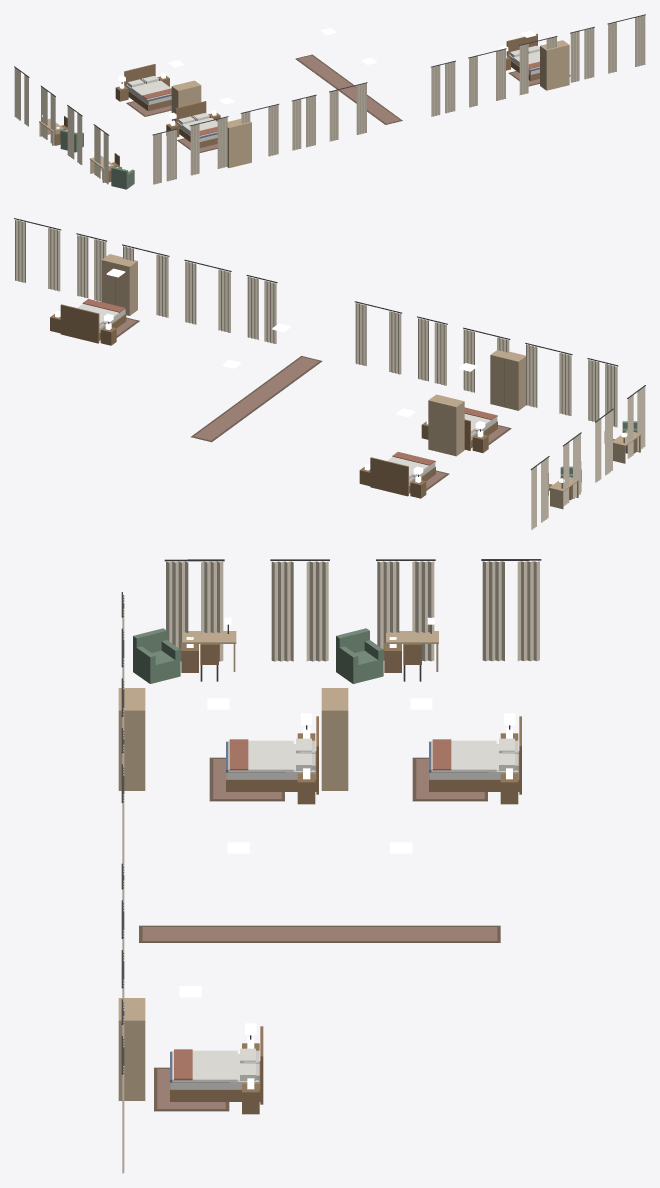
Rendered from fine-s1.glb.
3 views of the same model, one above another, from view 1: azimuth 30°, elevation 25°; view 2: azimuth 150°, elevation 25°; view 3: azimuth 270°, elevation 25° (orthographic). The views are drawn at different scales.
Parts seen in each view (by area): view 1: soft-s1, dresser.000, dresser.002, bed-frame.001, bed-frame.002, dresser.001, bed-frame.000, lounge-chair.001, lounge-chair.000; view 2: soft-s1, dresser.001, dresser.002, dresser.000, bed-frame.000, bed-frame.001, writing-desk.001, writing-desk.000; view 3: soft-s1, dresser.001, dresser.000, dresser.002, lounge-chair.000, lounge-chair.001, bed-frame.000, bed-frame.001, bed-frame.002.
Boxes of the visible parts, bbox=[...] form: soft-s1: bbox=[14, 14, 645, 184]; dresser.000: bbox=[540, 40, 569, 90]; dresser.002: bbox=[227, 118, 251, 167]; bed-frame.001: bbox=[124, 64, 171, 111]; bed-frame.002: bbox=[175, 101, 217, 147]; dresser.001: bbox=[171, 80, 201, 120]; bed-frame.000: bbox=[506, 33, 539, 80]; lounge-chair.001: bbox=[111, 166, 134, 189]; lounge-chair.000: bbox=[60, 129, 83, 152]; soft-s1: bbox=[14, 218, 645, 529]; dresser.001: bbox=[428, 394, 464, 456]; dresser.002: bbox=[490, 350, 525, 410]; dresser.000: bbox=[101, 254, 137, 315]; bed-frame.000: bbox=[60, 304, 126, 343]; bed-frame.001: bbox=[370, 457, 435, 496]; writing-desk.001: bbox=[613, 430, 641, 463]; writing-desk.000: bbox=[549, 477, 579, 509]; soft-s1: bbox=[121, 559, 541, 1173]; dresser.001: bbox=[321, 688, 348, 790]; dresser.000: bbox=[118, 998, 145, 1100]; dresser.002: bbox=[118, 688, 145, 790]; lounge-chair.000: bbox=[336, 628, 383, 683]; lounge-chair.001: bbox=[133, 628, 180, 683]; bed-frame.000: bbox=[170, 1026, 263, 1104]; bed-frame.001: bbox=[429, 716, 521, 794]; bed-frame.002: bbox=[226, 716, 318, 794].
Bounding box in the file's own units: 27.49 × 2.56 × 9.53.
